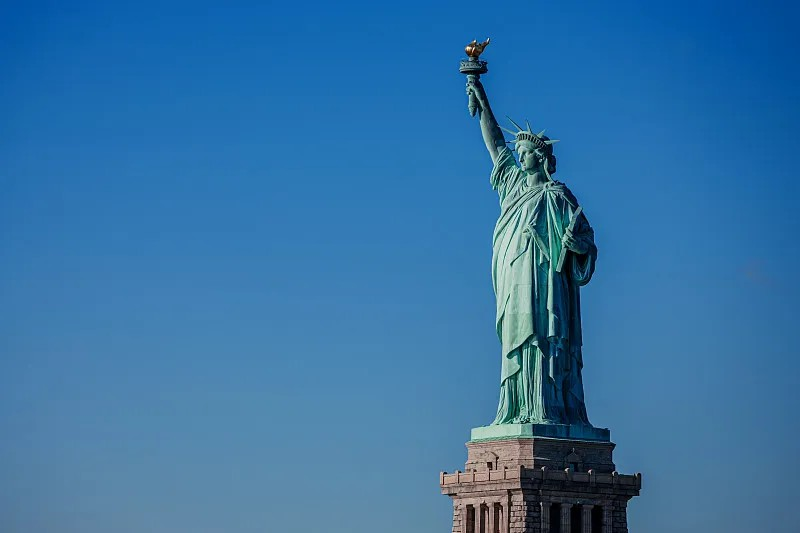SL: (440, 37, 643, 533)
